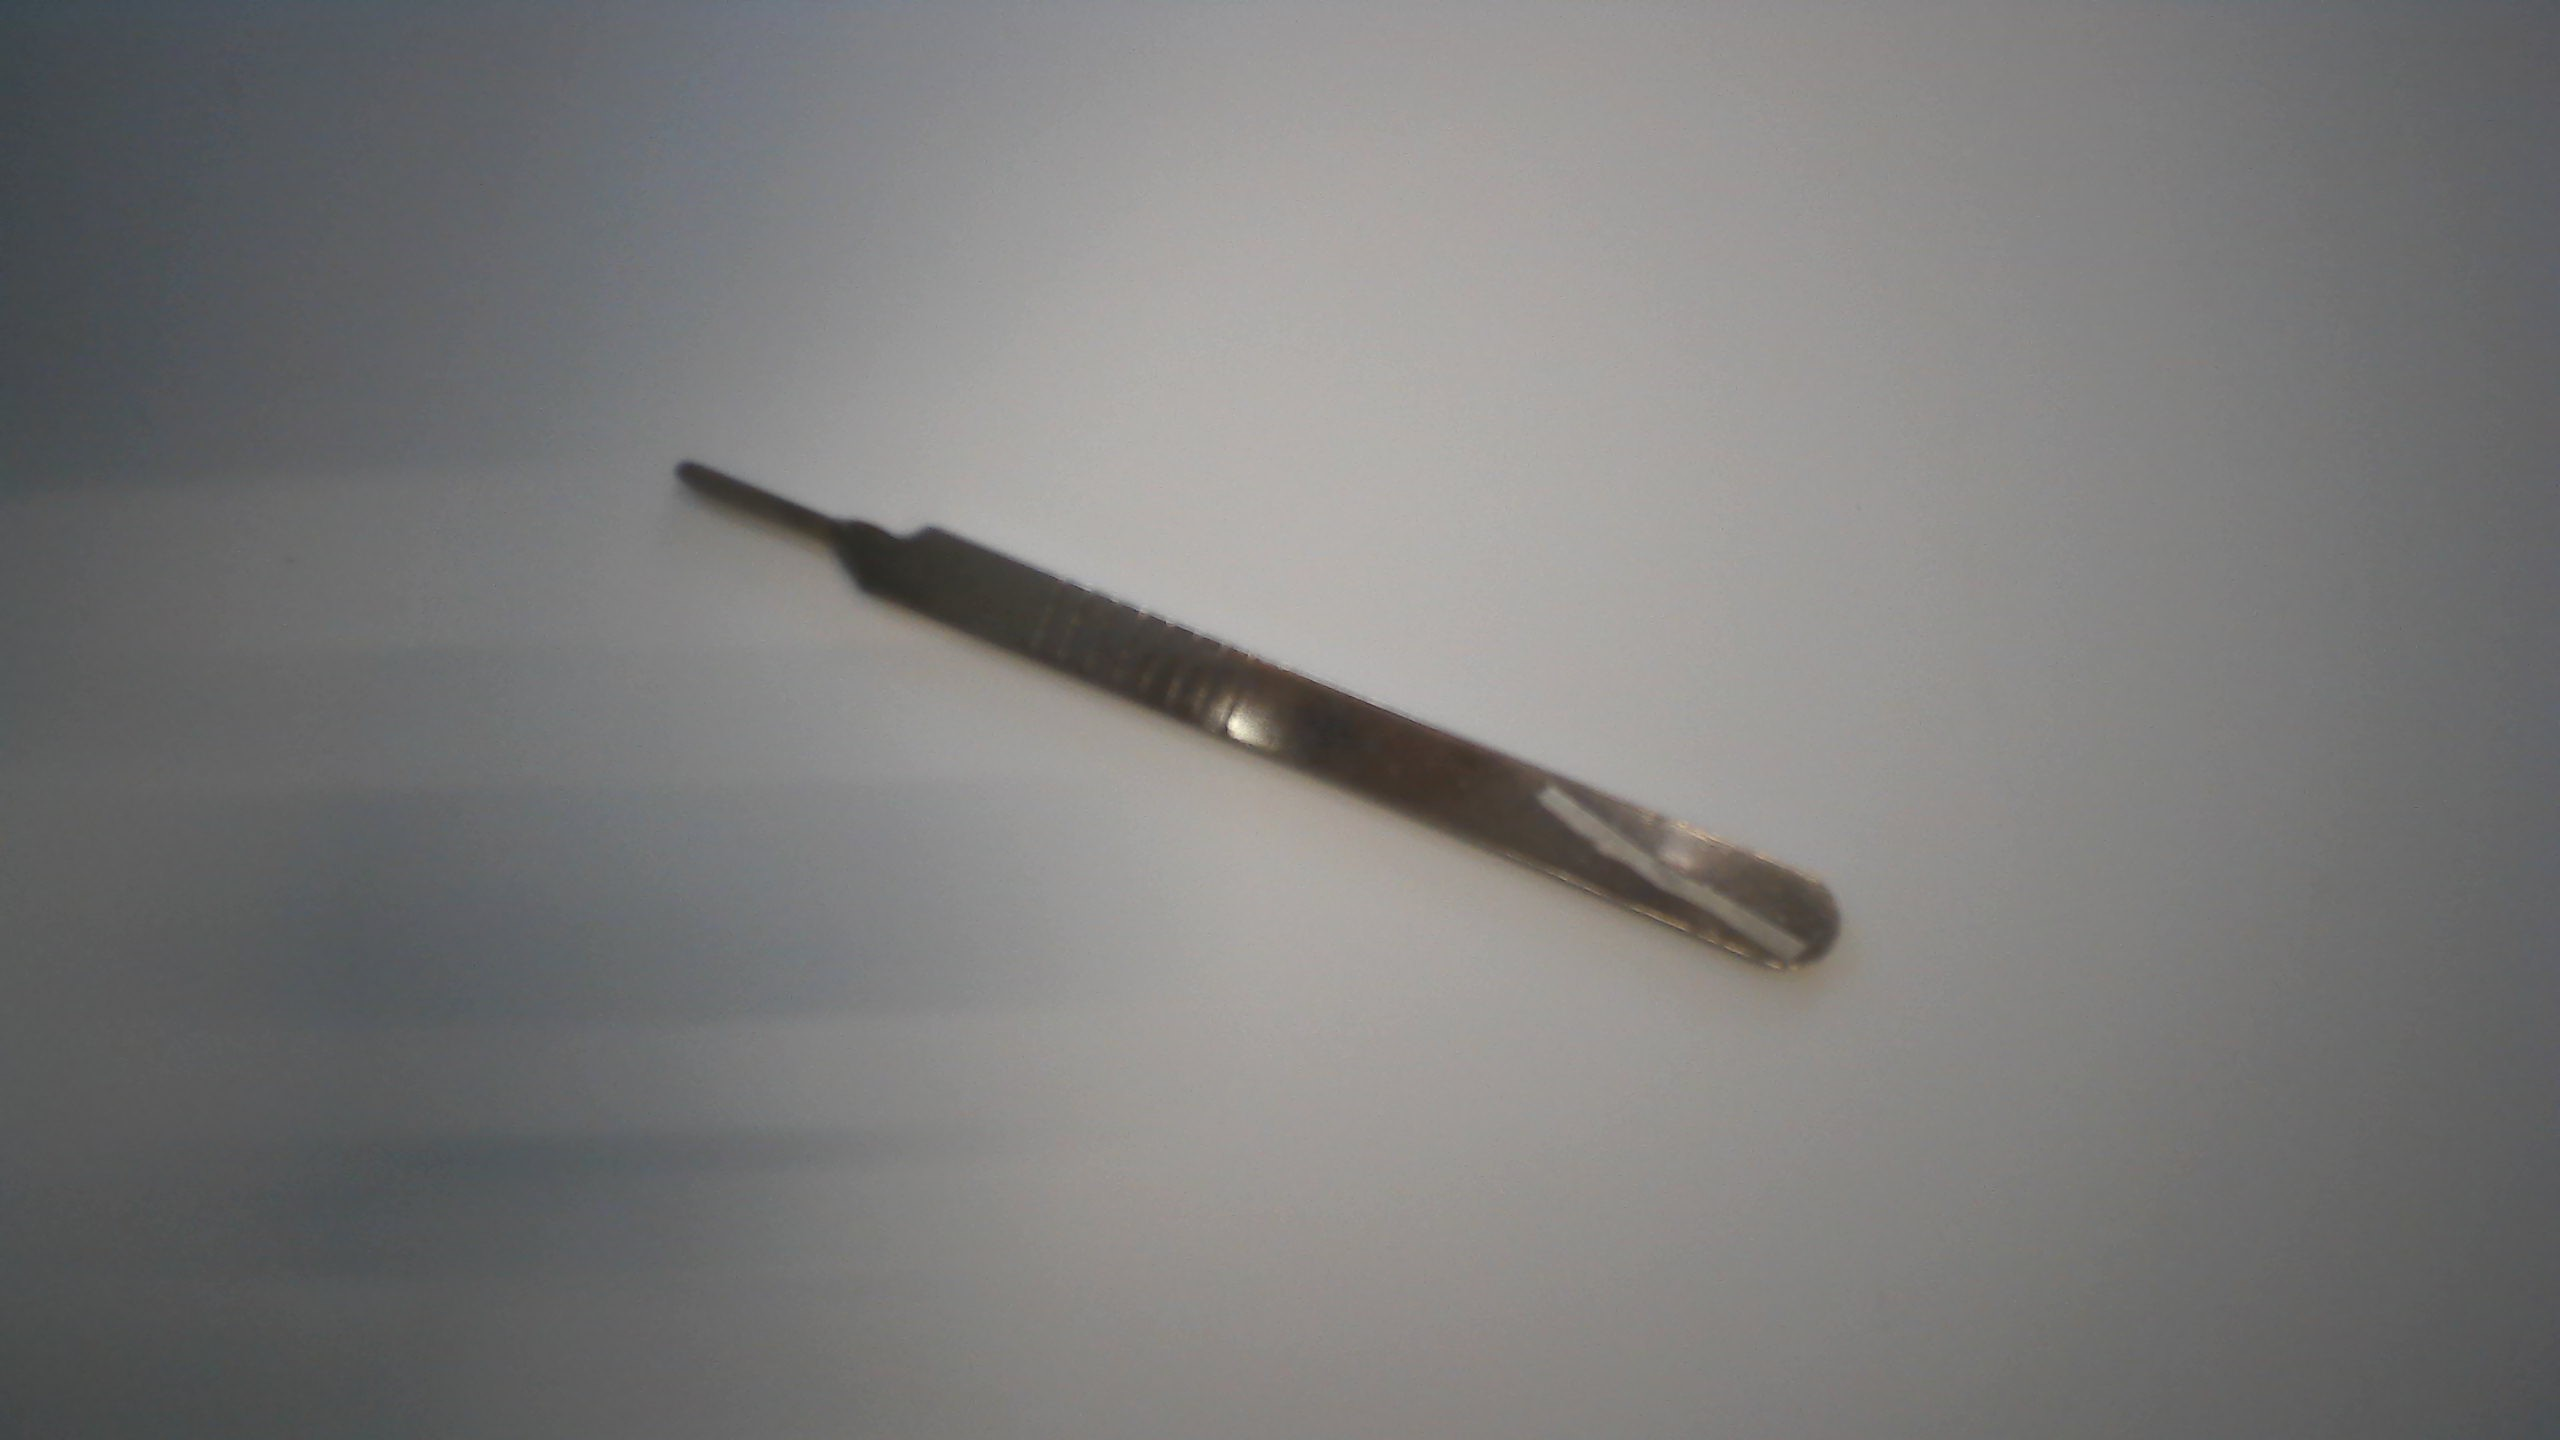Scratches: (1523, 781, 1825, 969)
